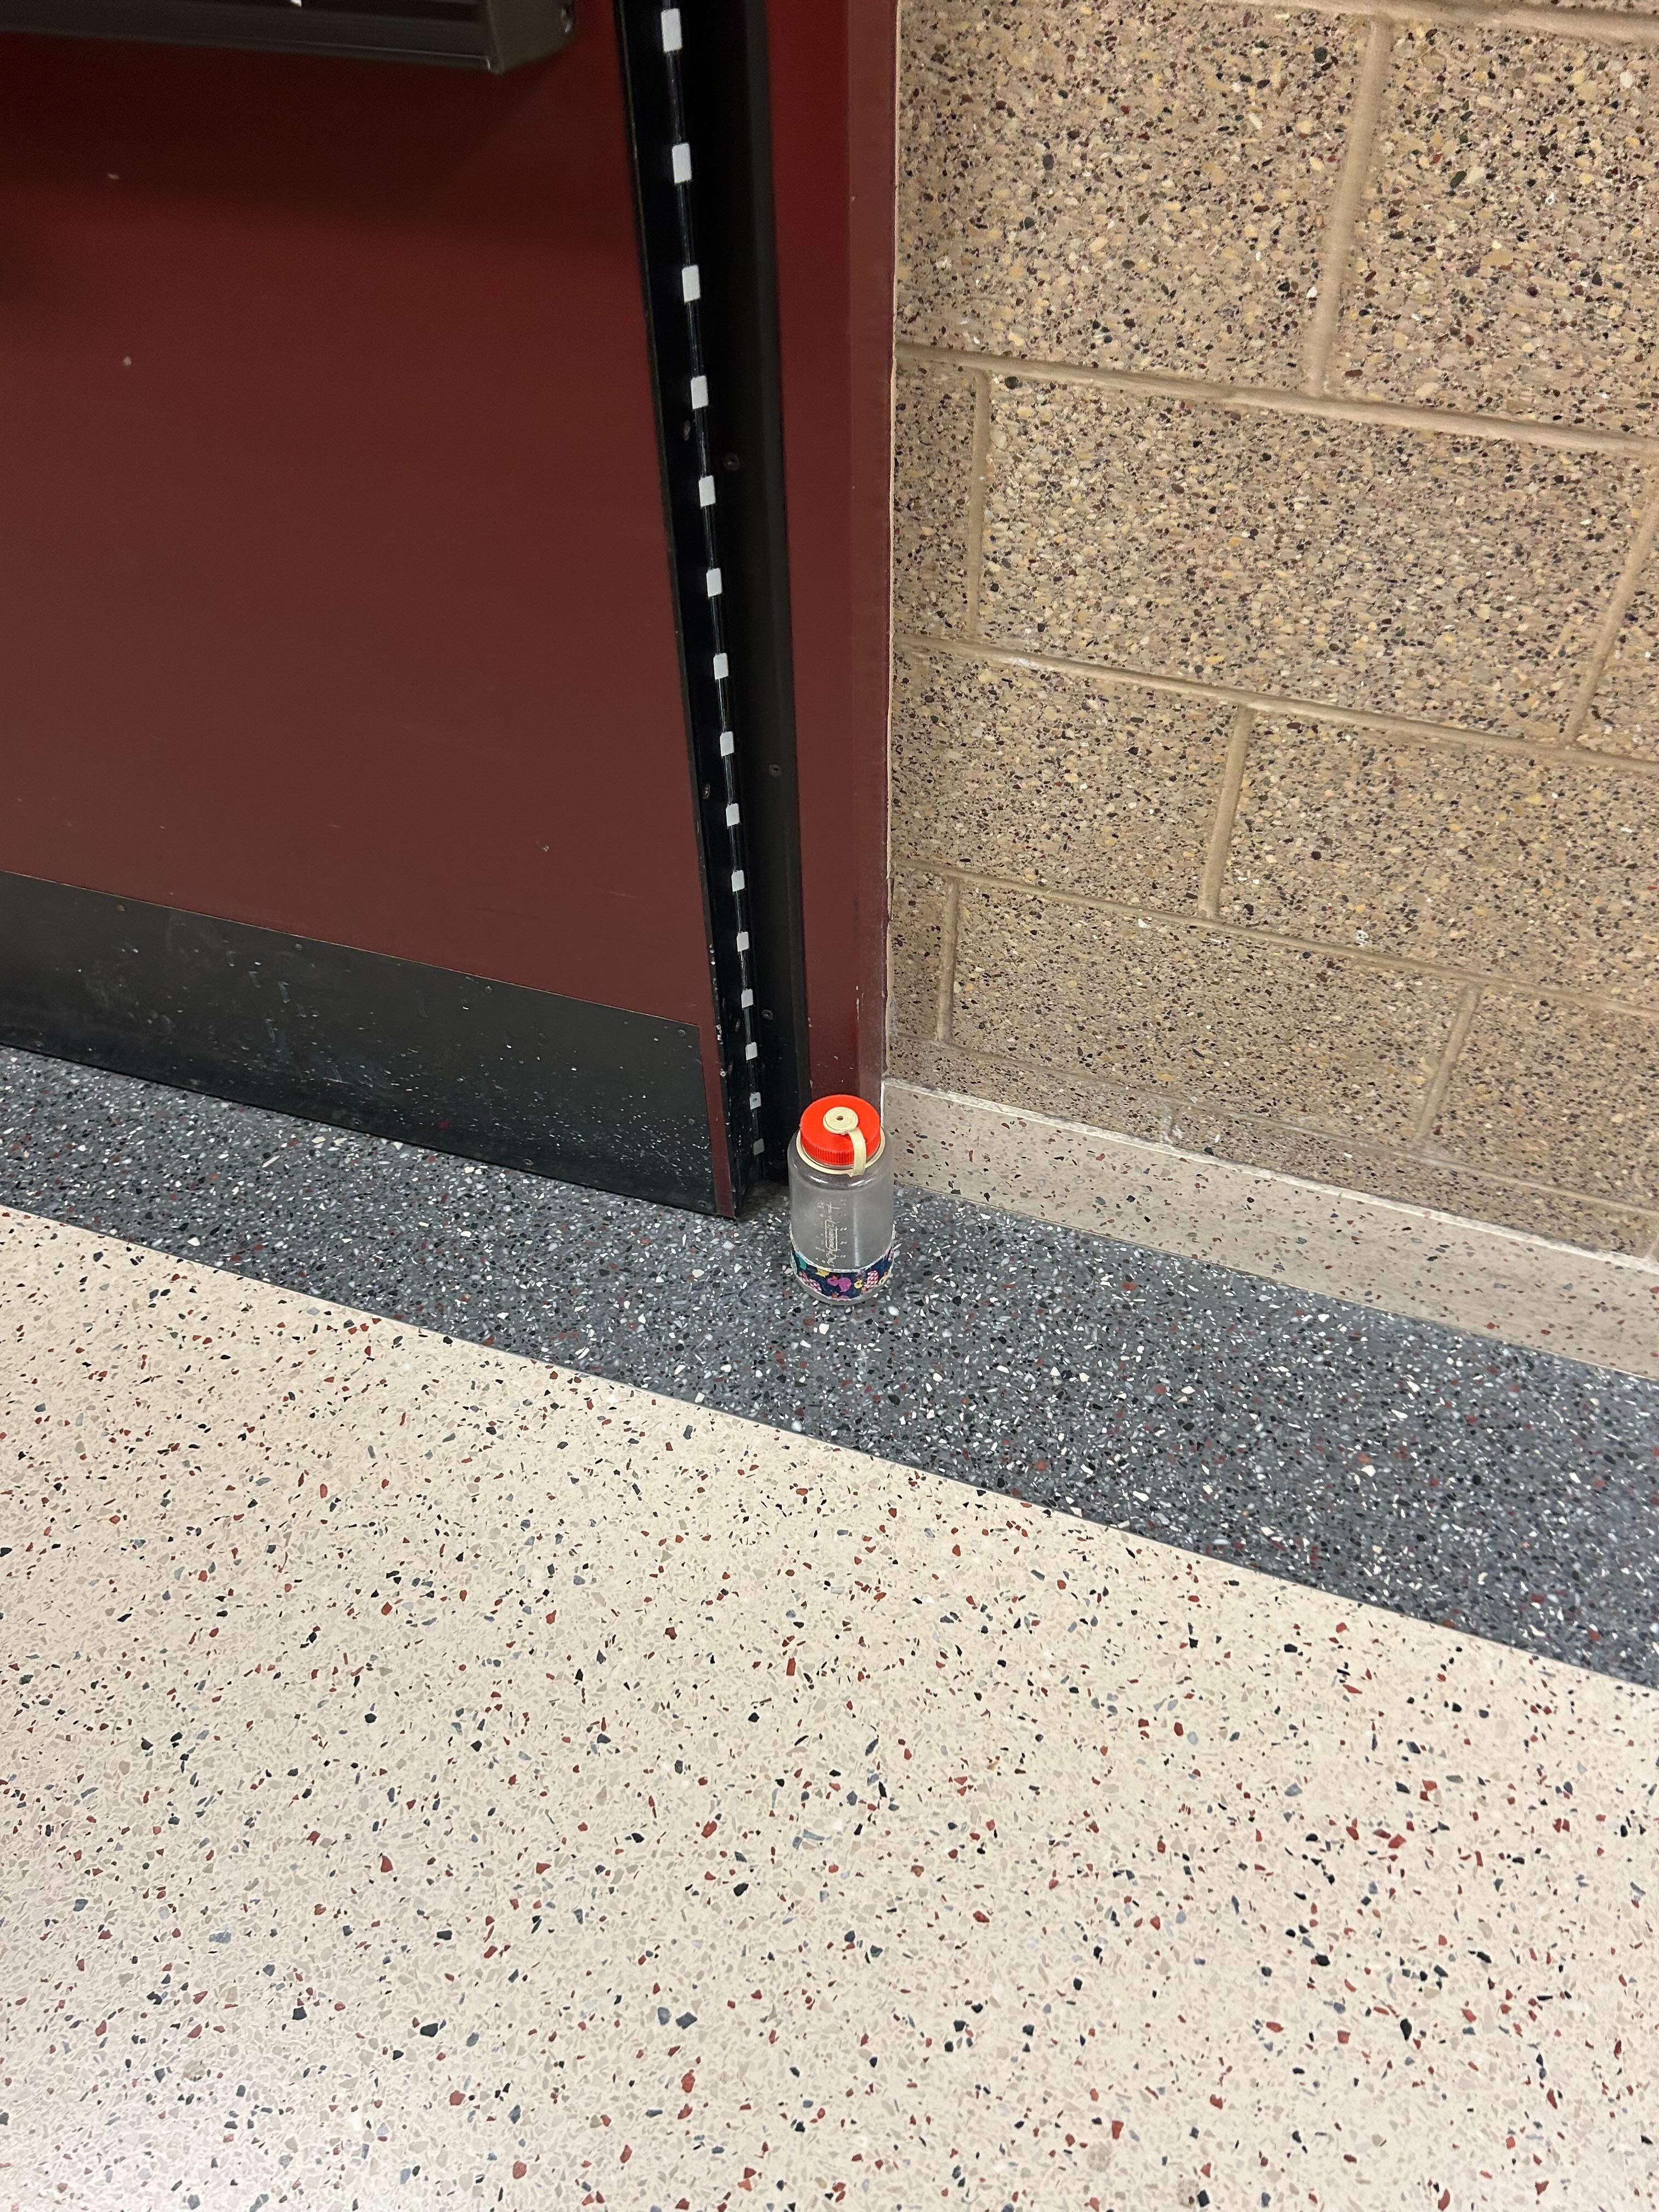bottle: (784, 1082, 897, 1317)
